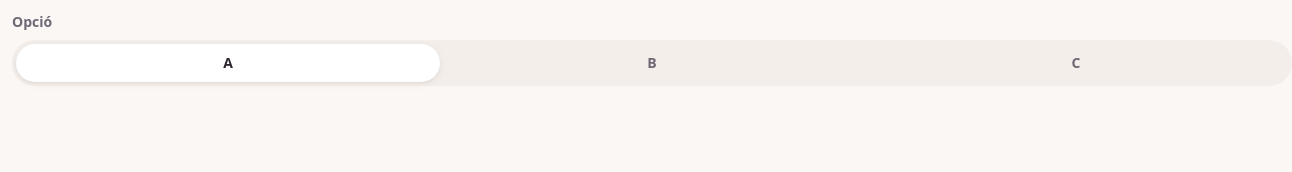
Scenario: SegmentedControl › selecciona amb clic i es mou amb fletxes
expect the element named "Opció" is shown: met, box 12,40 -> 1291,86
Click the radio button labelled "B" at (652, 63), box 440,44 -> 864,82
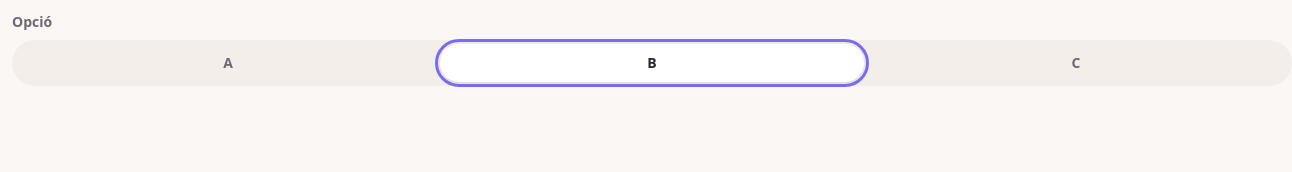
expect the radio button labelled "B" is checked: met, box 440,44 -> 864,82
Press Arrowright
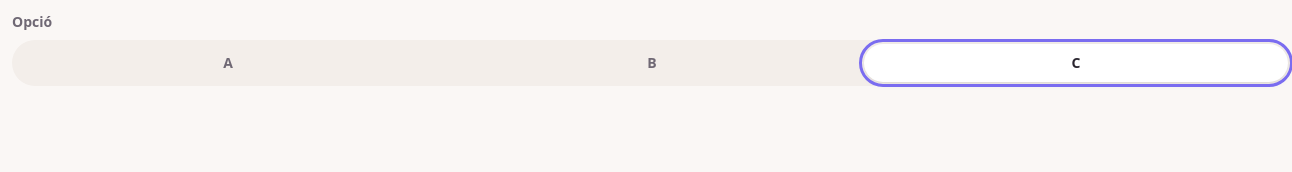
expect the radio button labelled "C" is checked: met, box 864,44 -> 1288,82
Press Arrowright
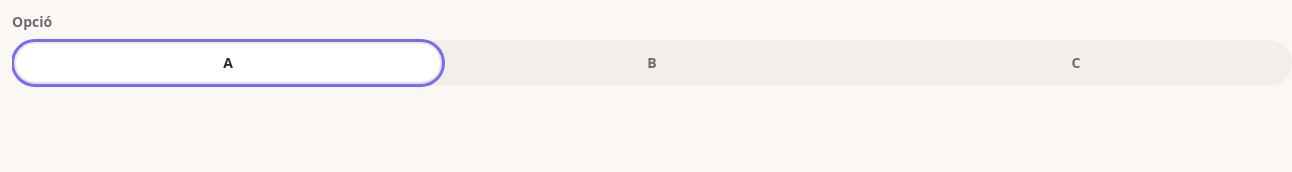
expect the radio button labelled "A" is checked: met, box 16,44 -> 440,82
